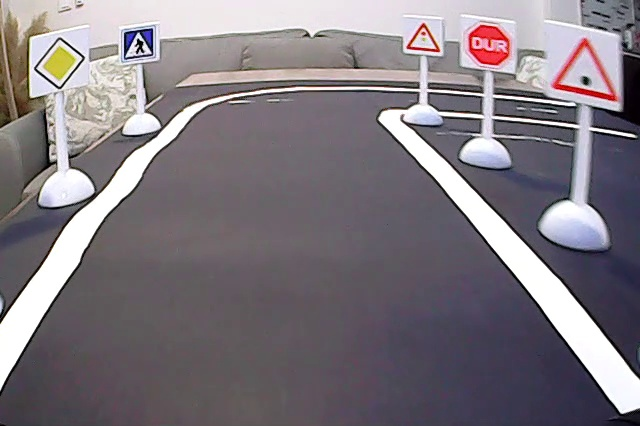green light: (548, 32, 621, 107)
pedestrian crossing: (120, 25, 159, 65)
red light: (402, 20, 445, 56)
stop sign: (462, 20, 516, 72)
